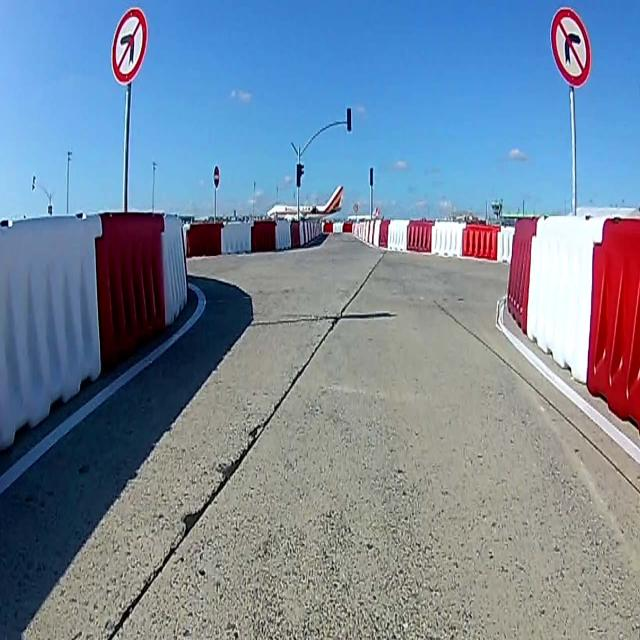sagadonulmez: (550, 6, 590, 86)
soladonulmez: (108, 5, 146, 80)
